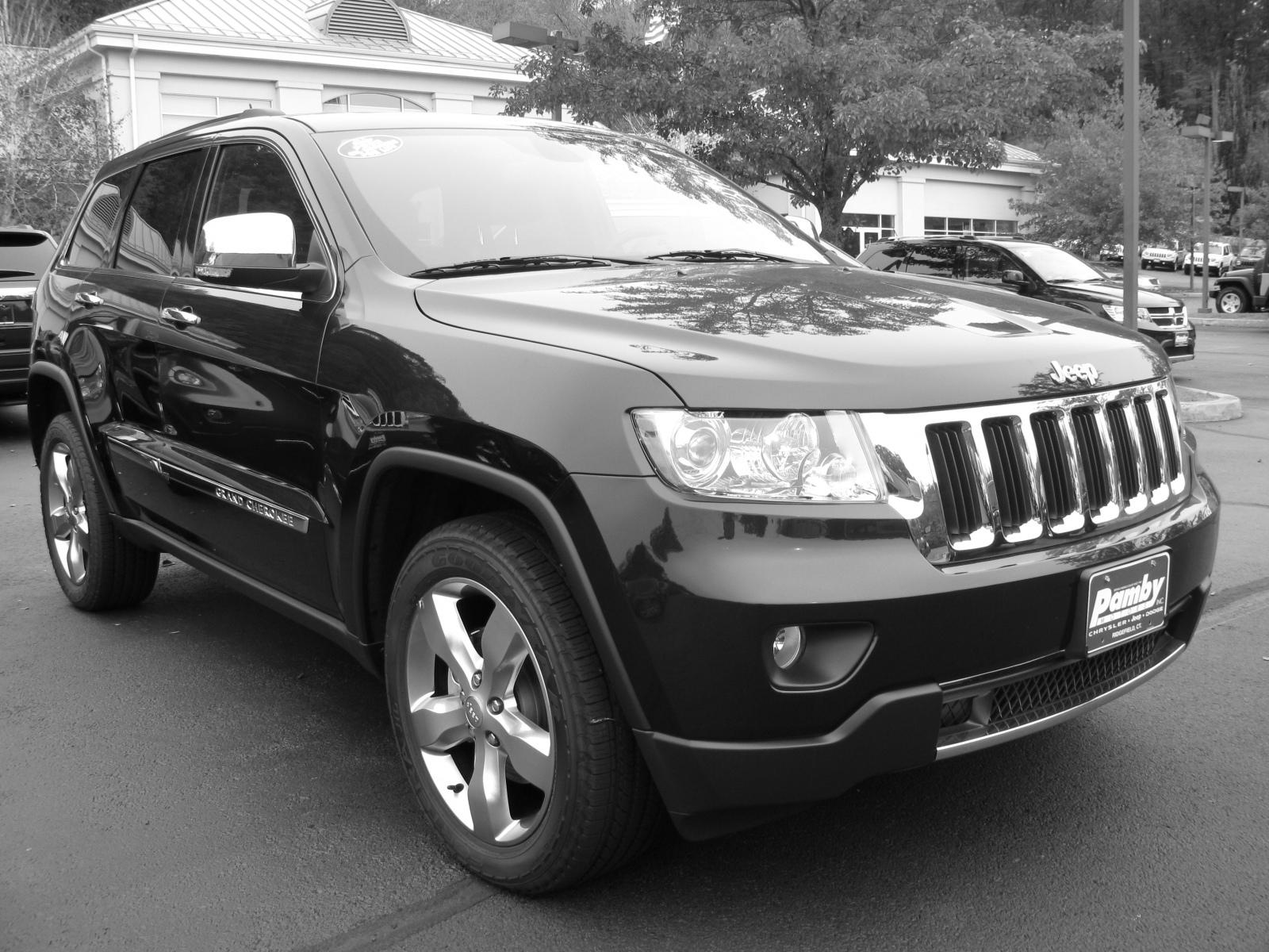car: (27, 113, 1226, 896)
